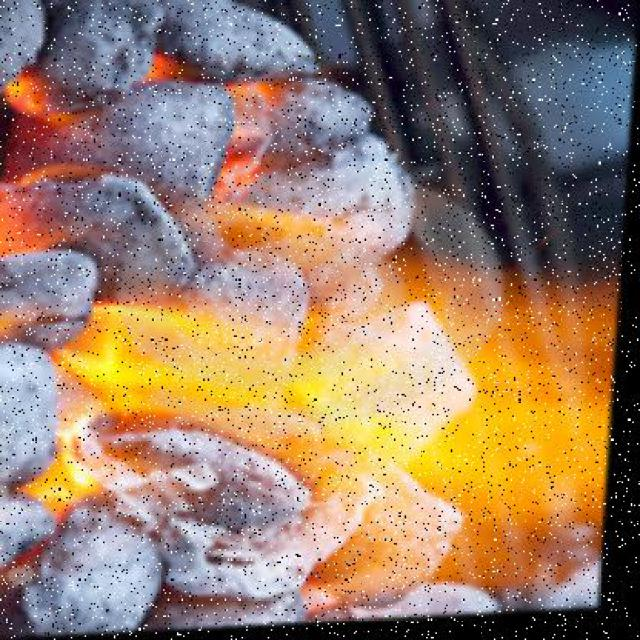fire: (53, 224, 627, 583)
